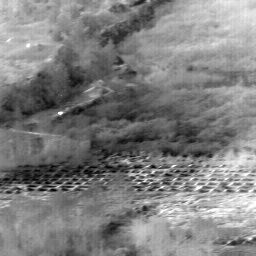aircraft: (60, 112, 62, 114)
